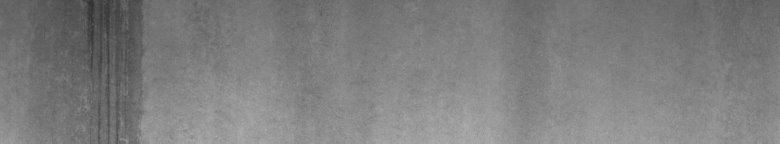ka: (76, 4, 148, 136)
